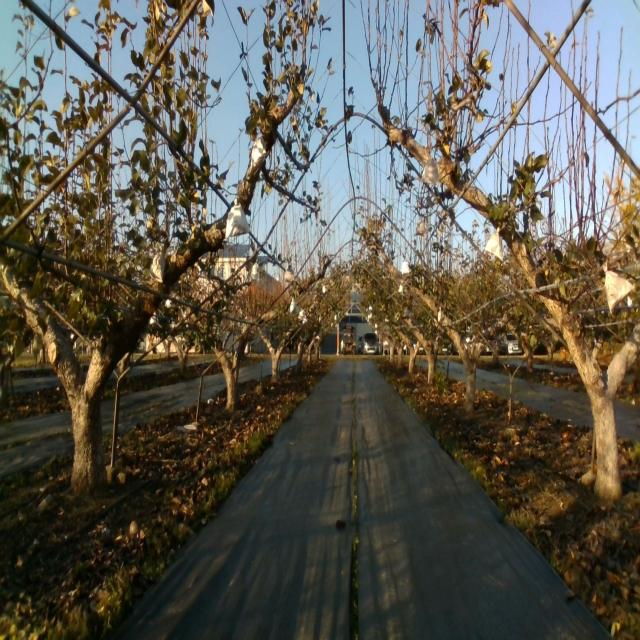pearbags: (602, 261, 635, 314), (226, 198, 250, 237), (486, 227, 506, 262), (251, 136, 267, 172), (149, 250, 165, 282), (420, 157, 438, 184)
